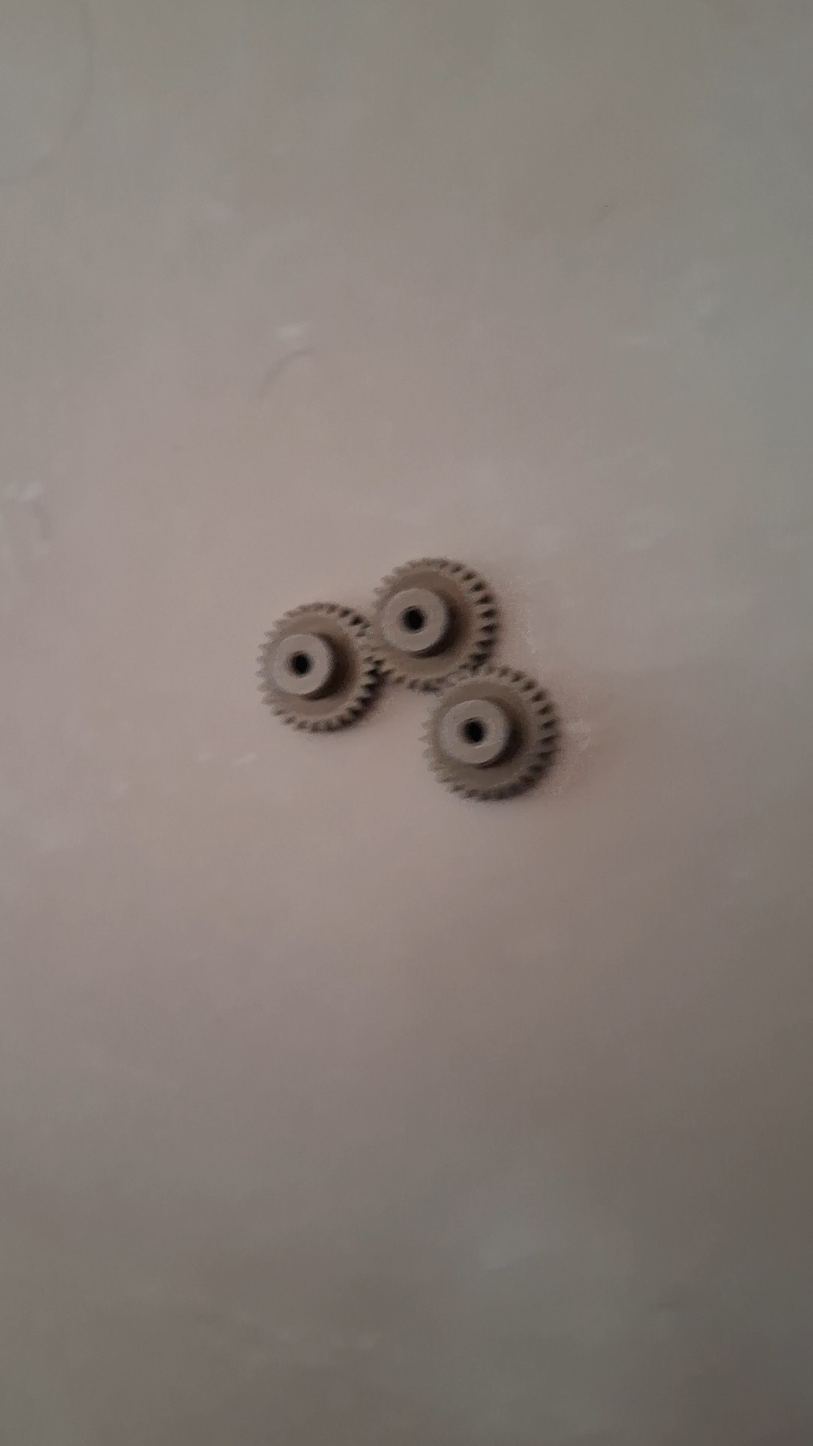spur gear: (425, 667, 557, 800), (371, 558, 498, 691), (258, 603, 379, 731)
